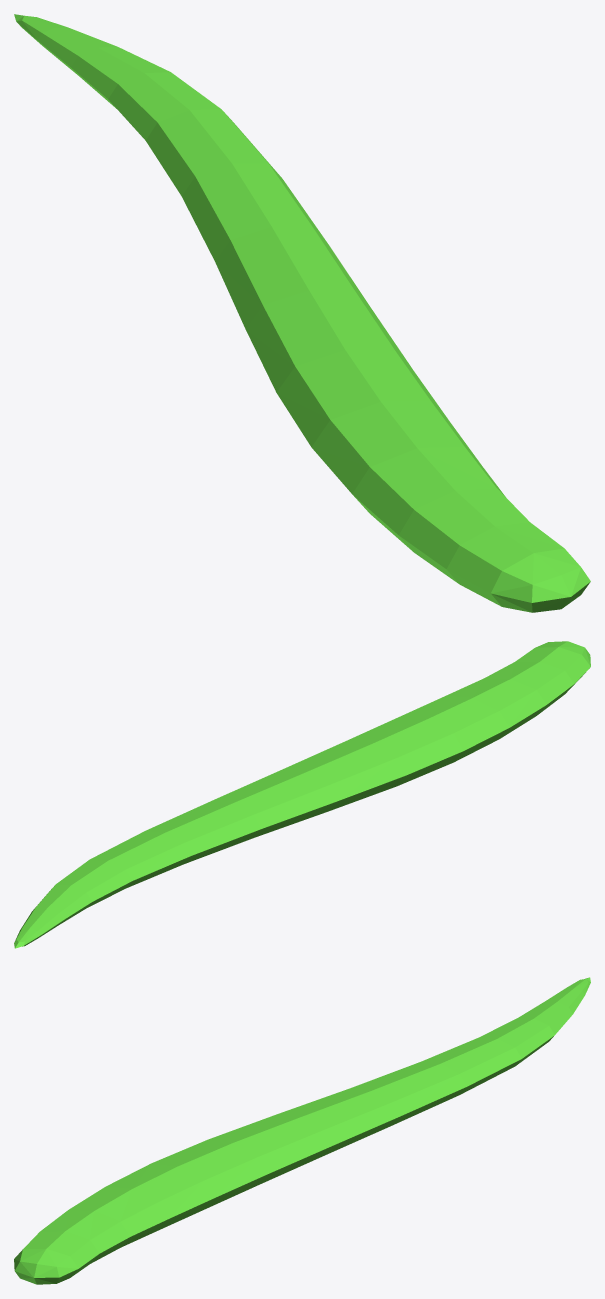
Rendered from SM_Grass_05.fbx.
3 views of the same model, one above another, from view 1: azimuth 30°, elevation 25°; view 2: azimuth 150°, elevation 25°; view 3: azimuth 330°, elevation 25° (orthographic). The views are drawn at different scales.
Visible parts, largest first — view 1: SM_Grass_05; view 2: SM_Grass_05; view 3: SM_Grass_05.
Part boxes in pixels (<box>): SM_Grass_05: <box>14,14,590,612</box>; SM_Grass_05: <box>14,641,590,948</box>; SM_Grass_05: <box>14,977,590,1284</box>.
Bounding box in the file's own units: 135 × 31.77 × 6.7.
